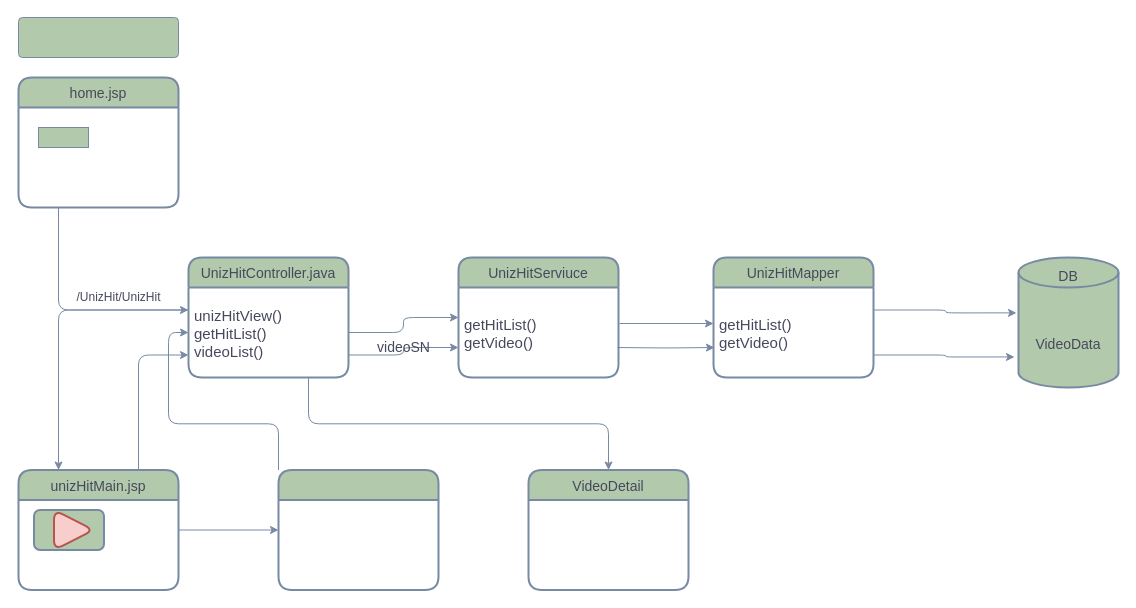
The diagram is 1136 pixels wide and 608 high, and some of its shapes have lost their labels. Each missing label, with the centre of its shape:
"unizHit.js" belongs at (x=358, y=529).
"인기" belongs at (x=63, y=137).
"인기 화면" belongs at (x=98, y=37).
